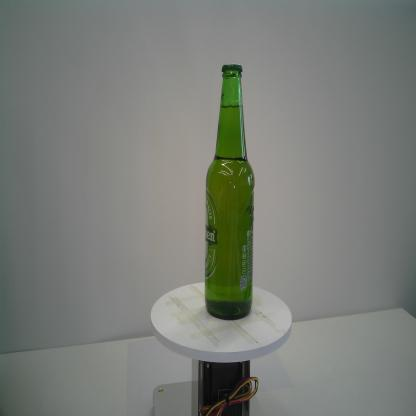Alcohol: (201, 62, 256, 323)
